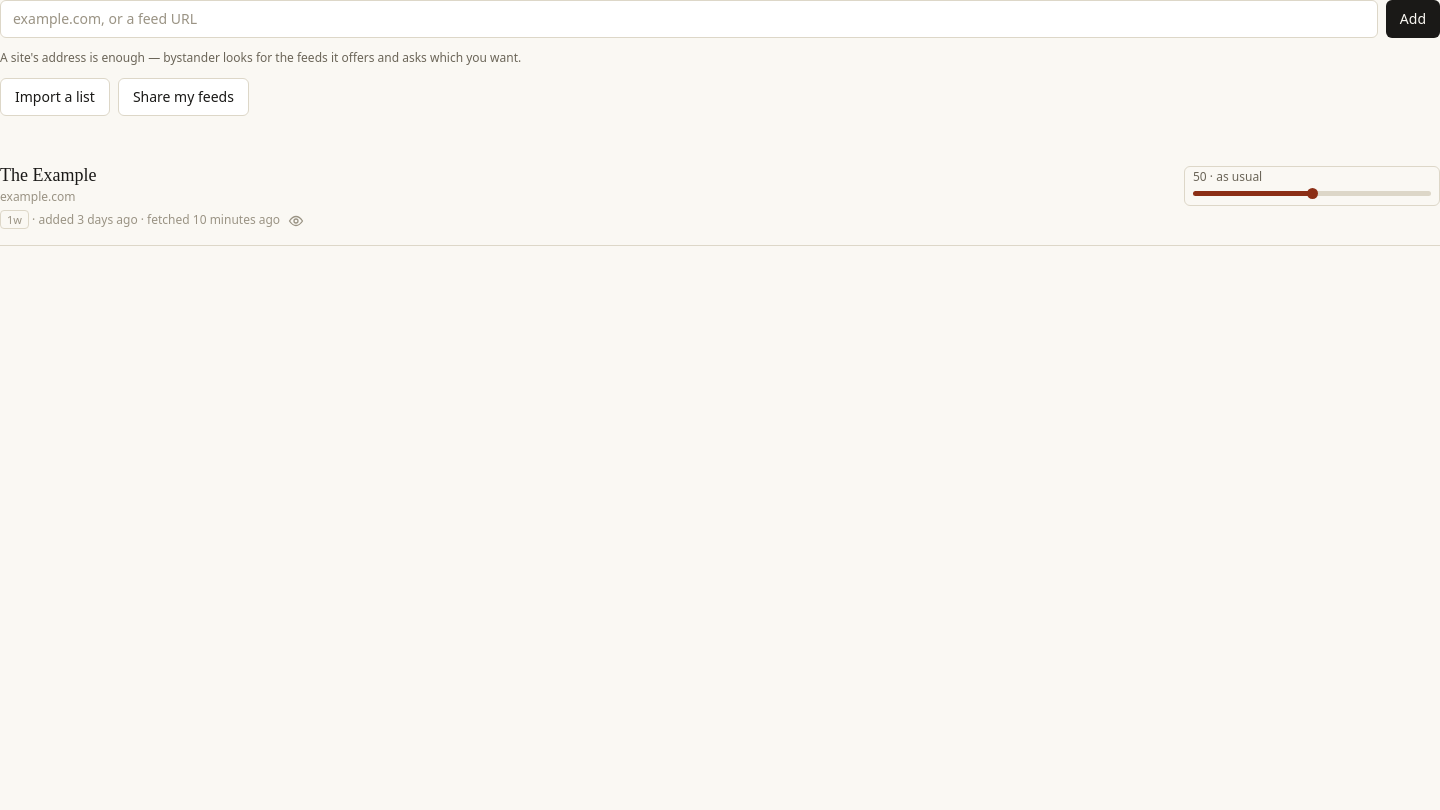
Test: FeedsPage › refuses to save a feed with no name
This screenshot has width=1440, height=810.
Click the button "The Example" at (48, 175), box [0,164,1168,186]
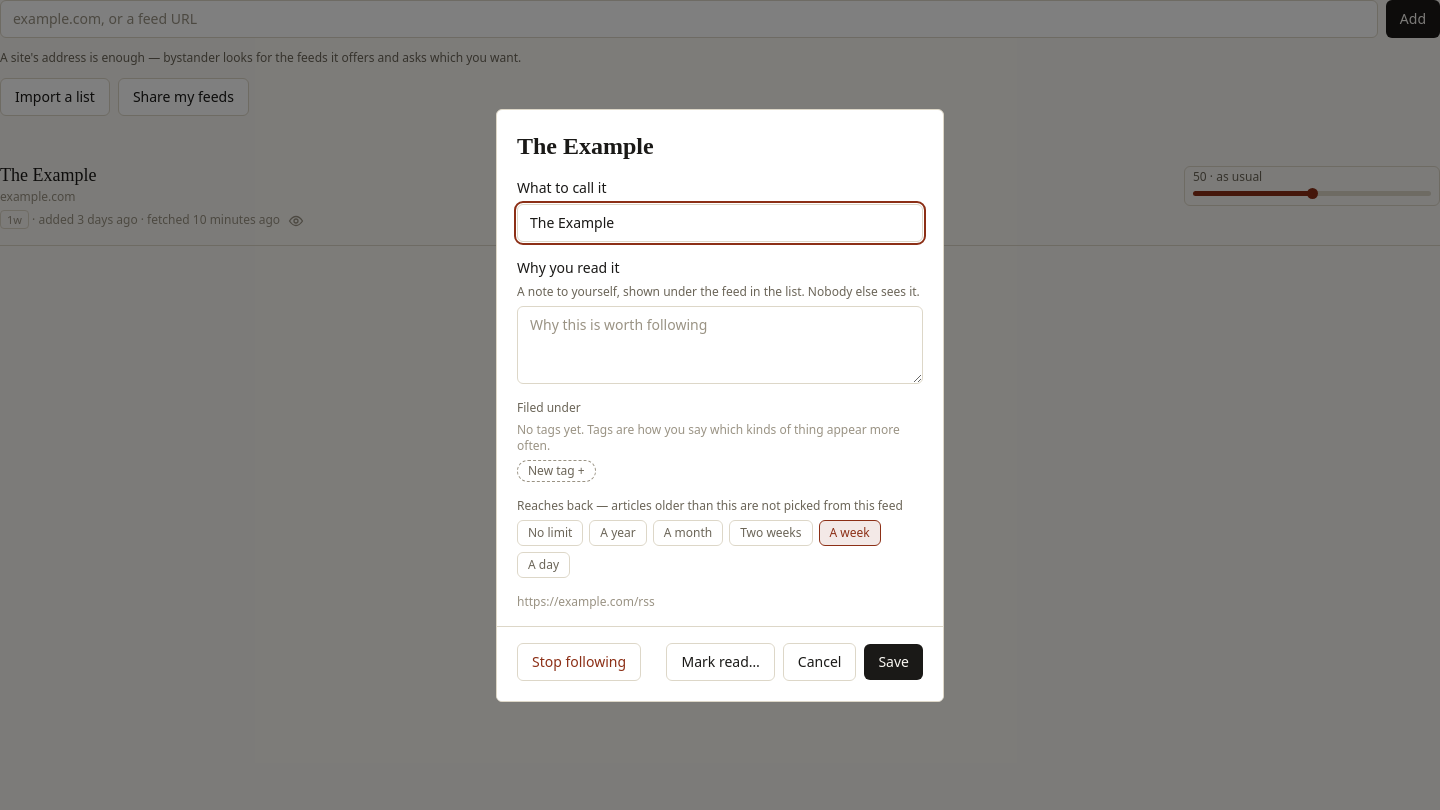
Clear the field labelled "What to call it" at (720, 222), box [517,204,923,242]
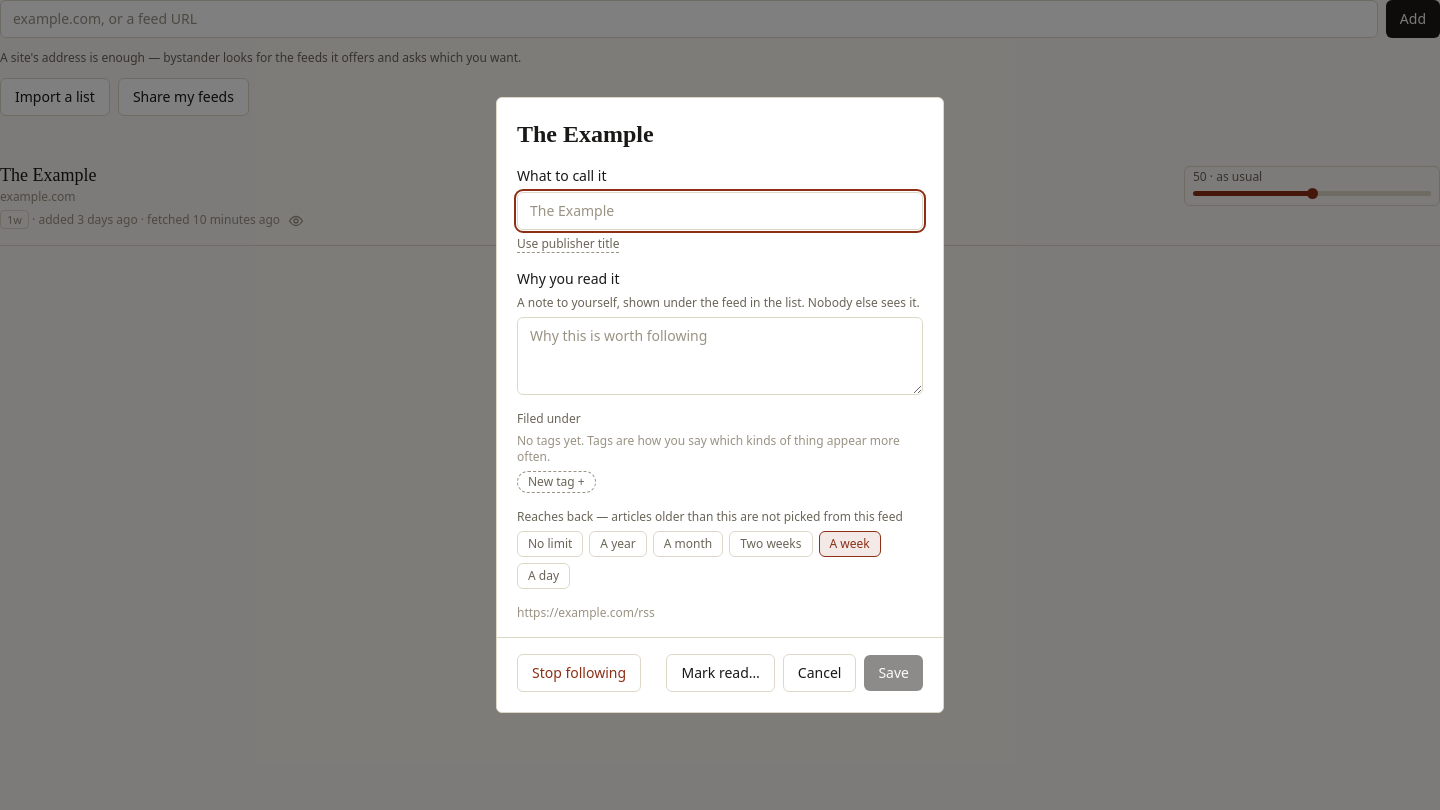
Expected: the button "Save" is disabled, [864,655,923,691]
